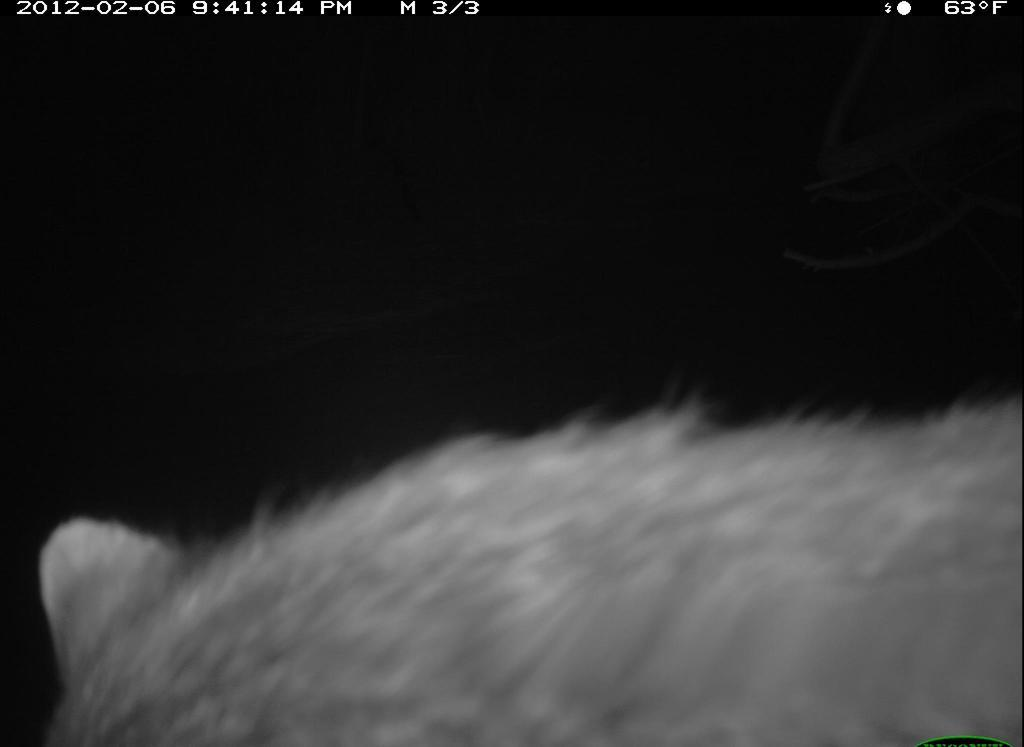raccoon: (27, 383, 1021, 747)
